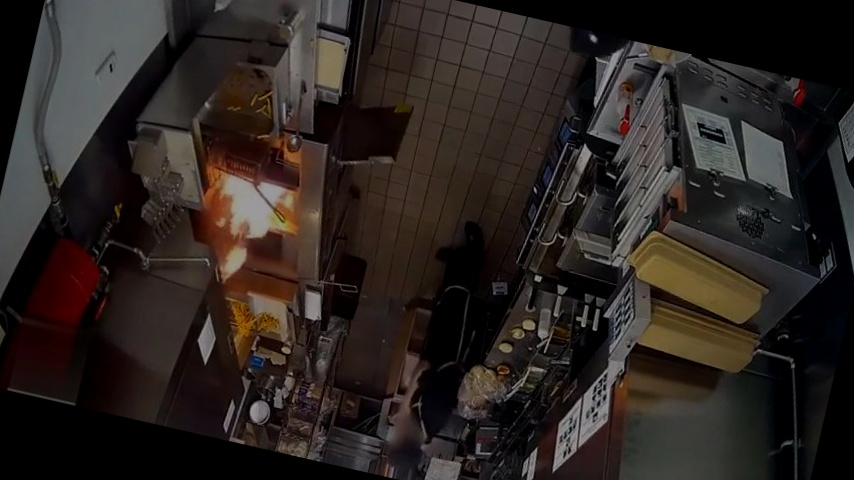fire: (169, 134, 321, 311)
